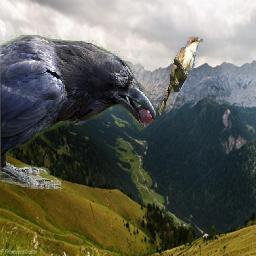Crow: (0, 35, 156, 189)
Cuckoo: (159, 37, 204, 115)
